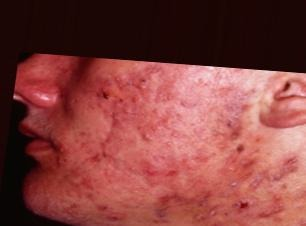Acne: (45, 75, 299, 216)
